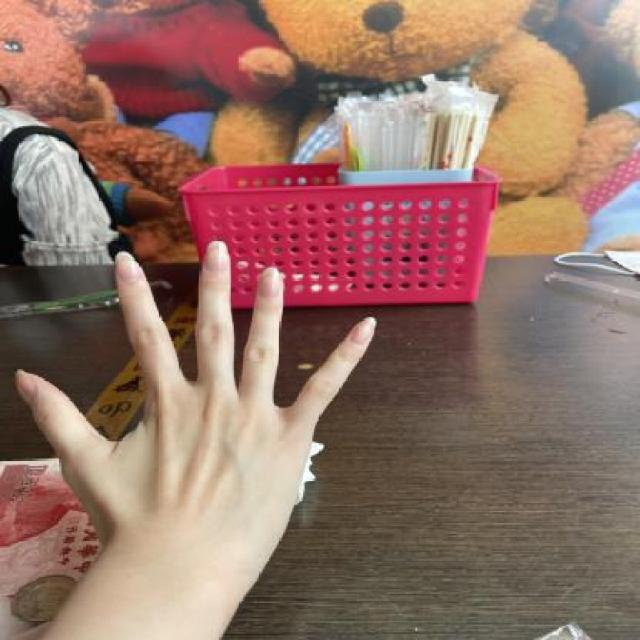no_glove: (3, 229, 389, 556)
